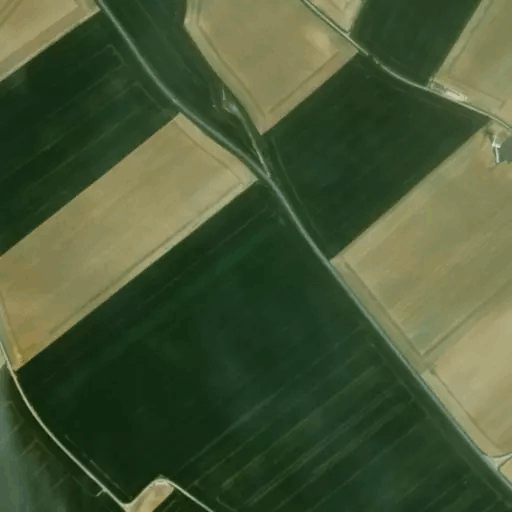wt: (479, 118, 509, 178)
